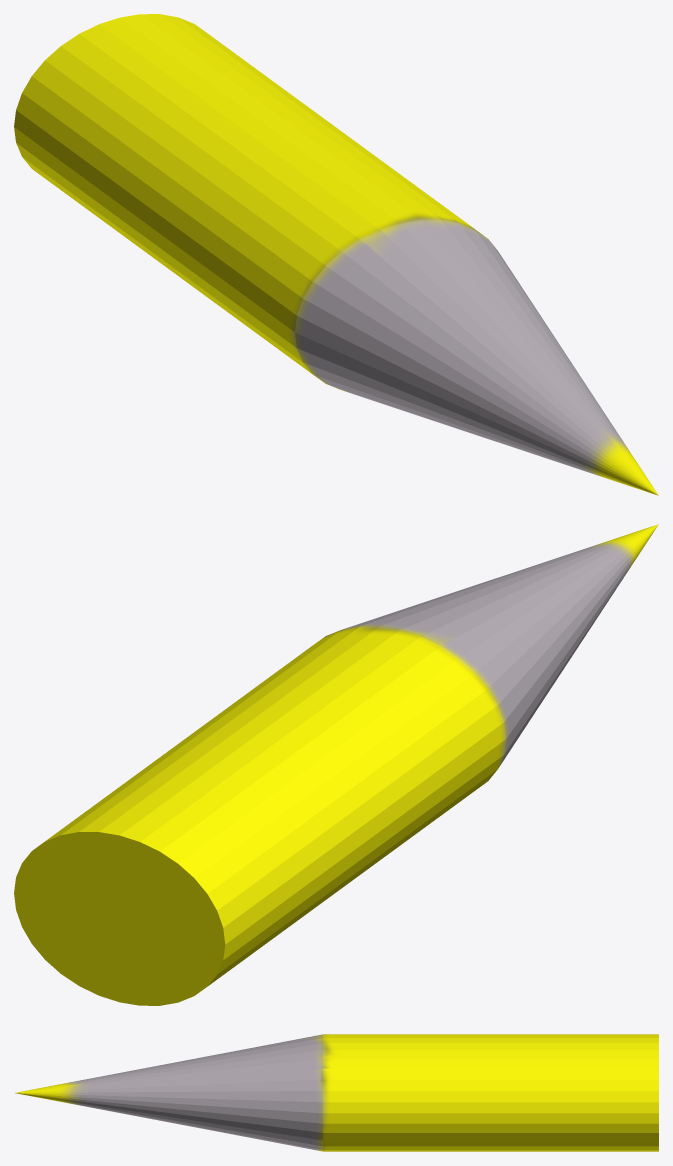
Rendered from EnemyHead.obj.
3 views of the same model, one above another, from view 1: azimuth 30°, elevation 25°; view 2: azimuth 150°, elevation 25°; view 3: azimuth 270°, elevation 25° (orthographic). The views are drawn at different scales.
Parts seen in each view (by area): view 1: 円錐; view 2: 円錐; view 3: 円錐.
Boxes of the visible parts, x1,y1,x2,y2 form: 円錐: (14,14,658,495); 円錐: (14,524,658,1005); 円錐: (15,1034,658,1151).
Size of the model in its own units: 2 by 1.51 by 8.84.
1 material, 1 textured.
